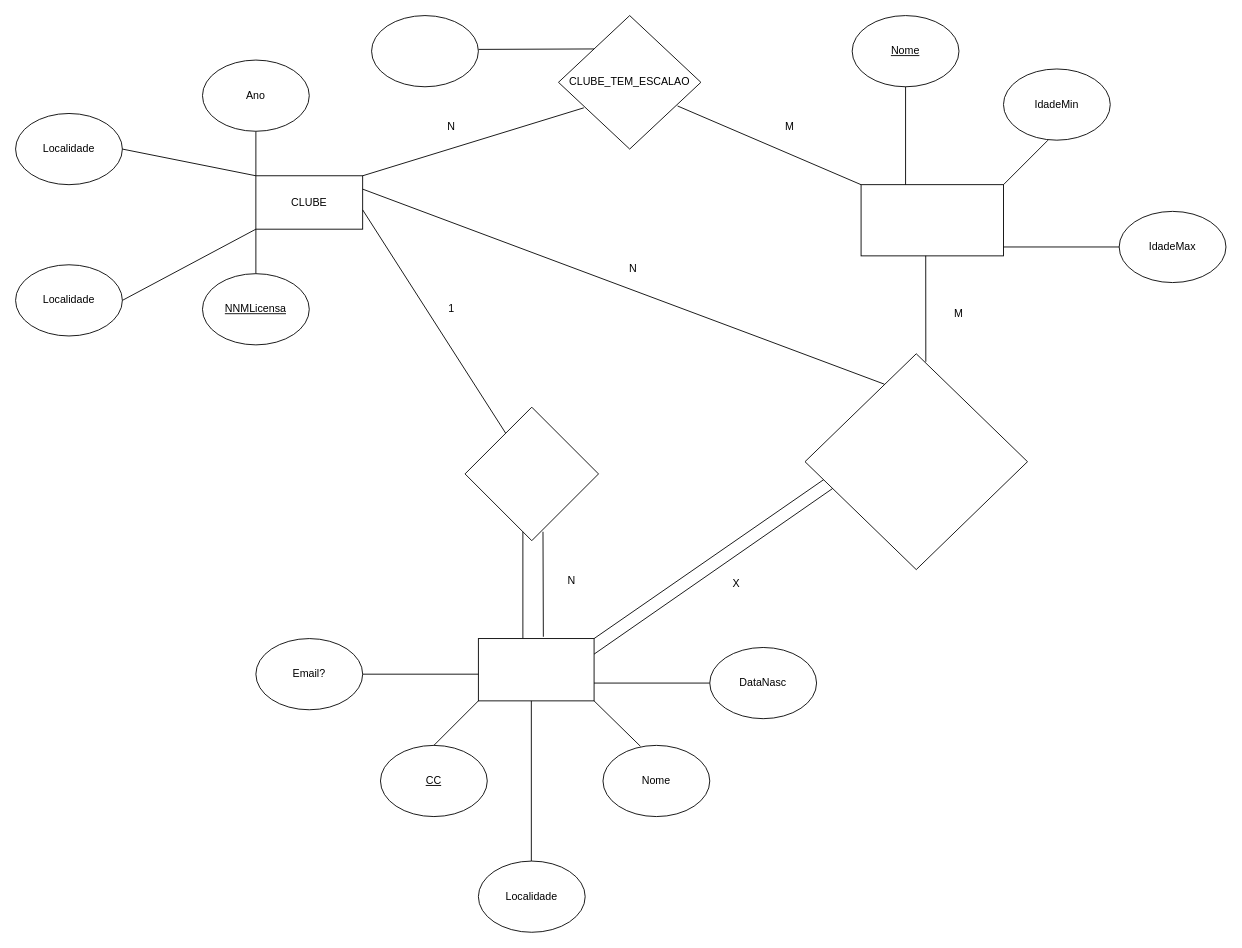
Image size: 1242x948. Some labels were removed from this diagram. The shapes that lost their labels are listed below. From the top down, each one's centre as x and y in pixels, then its label:
At pixel 424 51: "Nome?".
At pixel 931 220: "ESCALÃO".
At pixel 531 473: "CLUBE_TEM_ATLETAS".
At pixel 916 461: "CLUBE_TEM_ATLETAS_NO_ESCALAO".
At pixel 535 669: "ATLETA".
